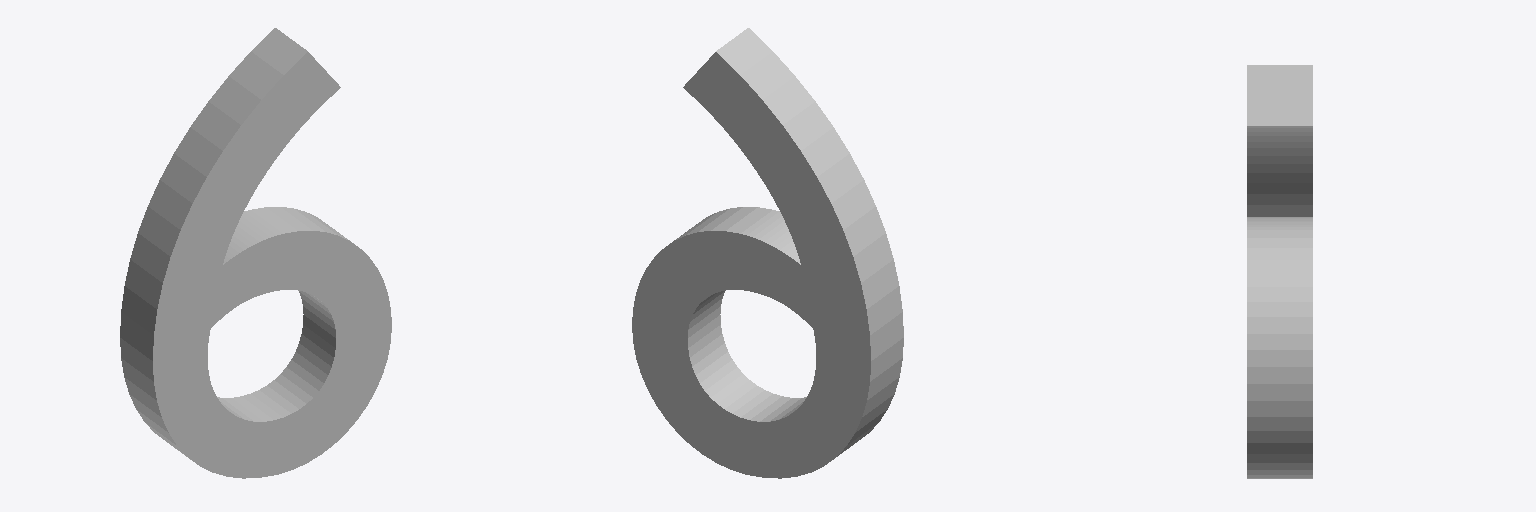
3 views of the same model, side by side, from view 1: azimuth 30°, elevation 25°; view 2: azimuth 150°, elevation 25°; view 3: azimuth 270°, elevation 25° (orthographic).
Visible parts, largest first — view 1: Text.005_CUText.005; view 2: Text.005_CUText.005; view 3: Text.005_CUText.005.
Boxes of the visible parts, <box> form: Text.005_CUText.005: <box>120,28,391,478</box>; Text.005_CUText.005: <box>632,28,903,478</box>; Text.005_CUText.005: <box>1247,65,1312,478</box>.
Size of the model in its own units: 0.421 by 0.7 by 0.1.